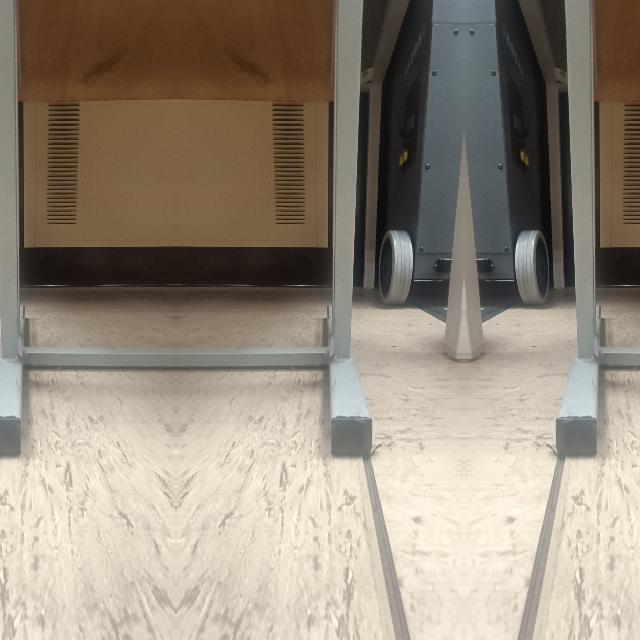obstacle: (552, 241, 602, 454), (326, 241, 374, 454), (0, 240, 24, 453)
